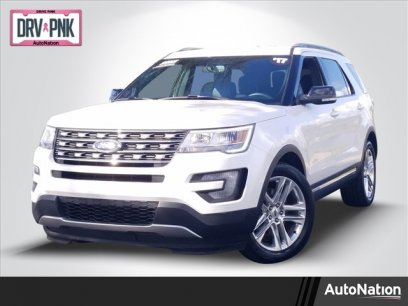Ford Explorer: (31, 43, 377, 264)
